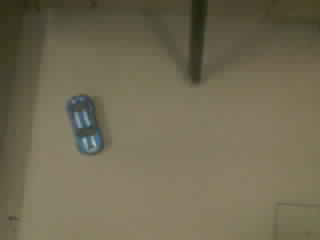Car: (67, 95, 103, 154)
